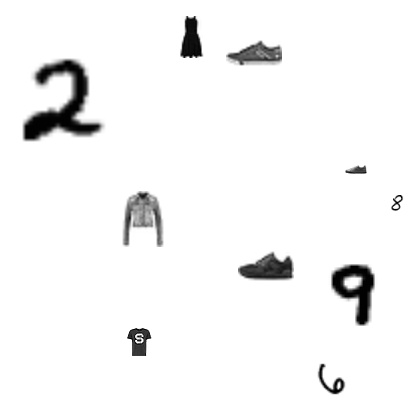2: (4, 48, 116, 160)
4: (22, 124, 36, 138)
6: (309, 361, 351, 403)
8: (386, 191, 408, 213)
9: (314, 247, 398, 331)
Coat: (115, 191, 171, 247)
Dress: (170, 16, 212, 58)
Sneaker: (238, 238, 294, 294), (226, 25, 282, 81), (345, 158, 367, 180)
T-shirt/top: (125, 328, 153, 356)
